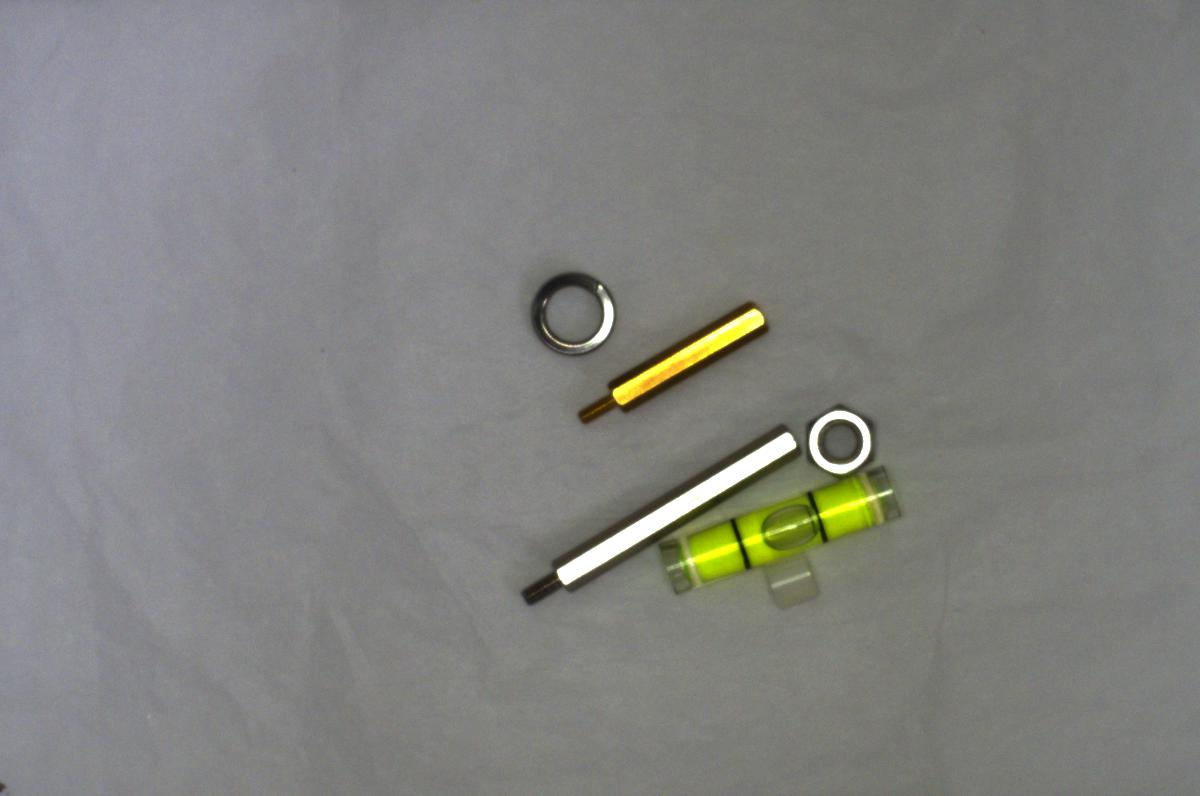Hexagon nut: (793, 395, 882, 482)
Hexagon pillar: (574, 302, 767, 426)
Hexagonal steel column: (514, 425, 798, 608)
Horizontal bubble: (660, 465, 908, 600)
Plastic cushion pillar: (760, 555, 827, 613)
Spring washer: (518, 262, 624, 361)
